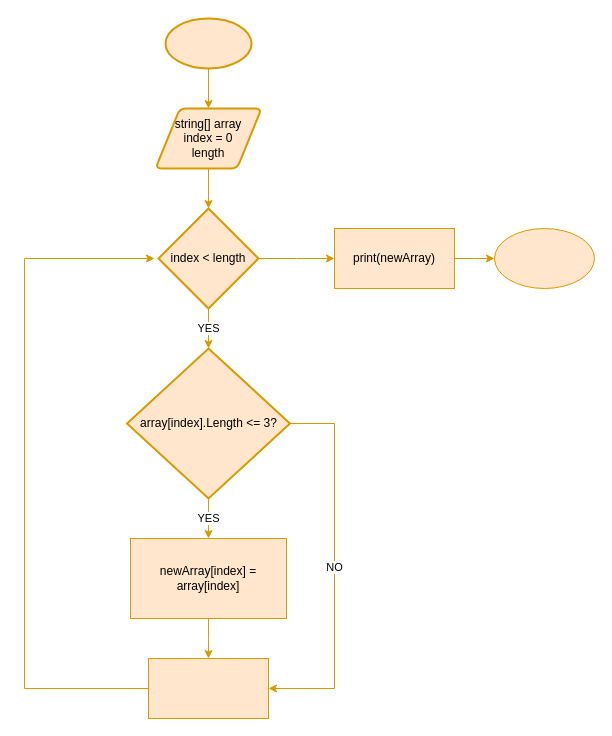
This 612x736 diagram has some shape labels left out. Here are the shapes that lost their labels. From the top down, the box of each, then its label:
(164, 17, 252, 69): START
(494, 228, 594, 288): END
(148, 658, 268, 718): index++
